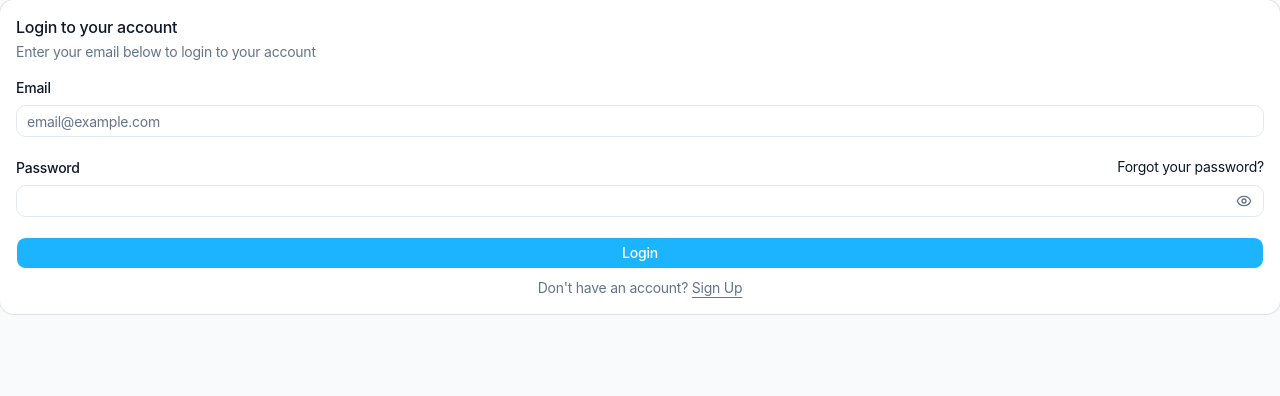
Test: LoginForm › shows every field message when the response body has an errors map
This screenshot has width=1280, height=396.
In the field labelled "Email": (640, 121) [16,105,1264,137], type "user@email.com"
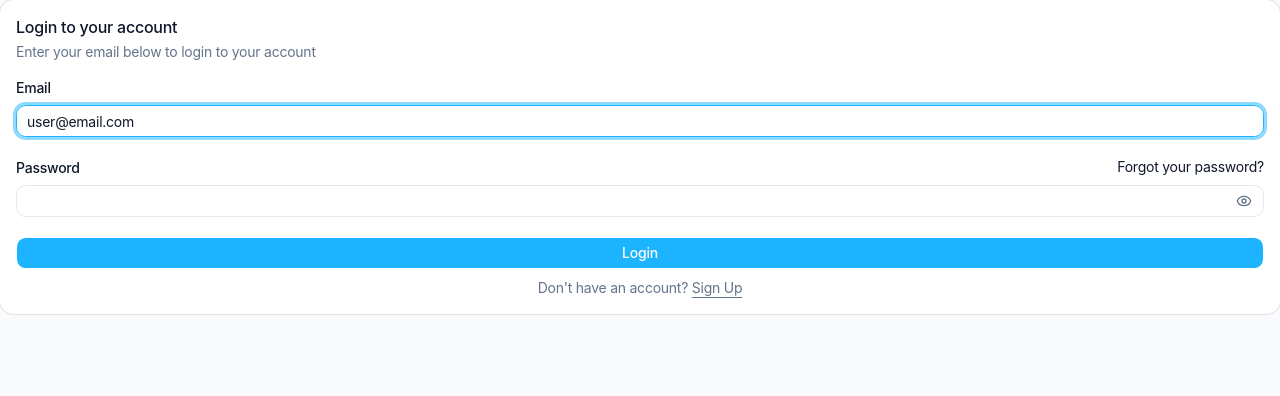
In the password field labelled "Password": (640, 201) [16,185,1264,217], type "Password@123"
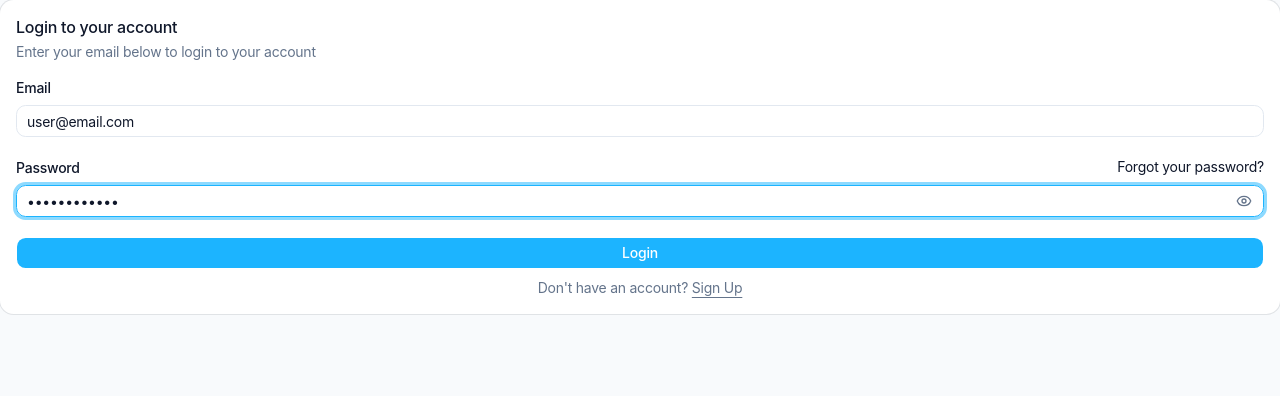
Click the button "Login": (640, 253) [16,237,1264,269]
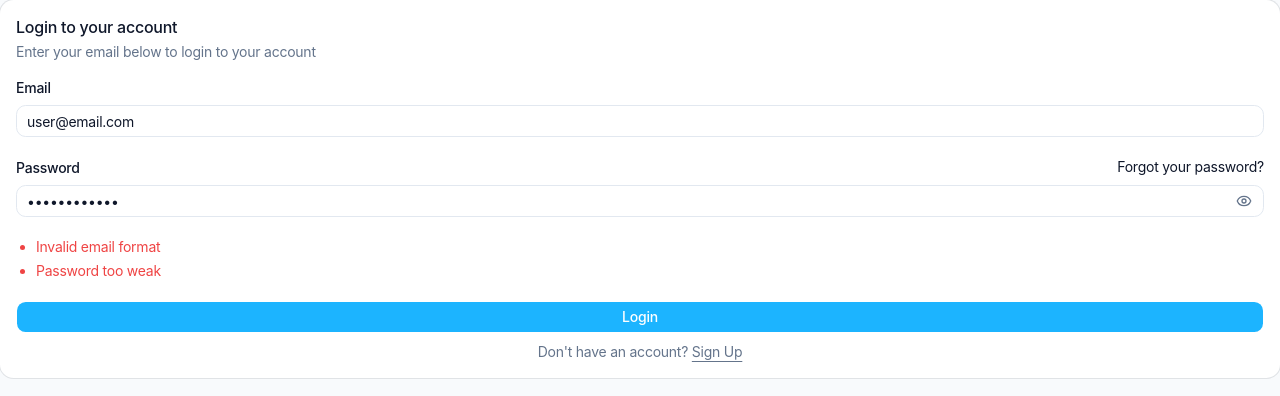
Expected: the list item "Invalid email format" is shown, [36,238,160,255]
Expected: the list item "Password too weak" is shown, [36,262,161,279]
